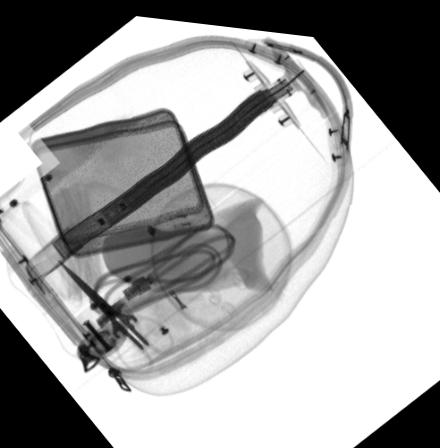Scissors: (53, 257, 173, 372)
